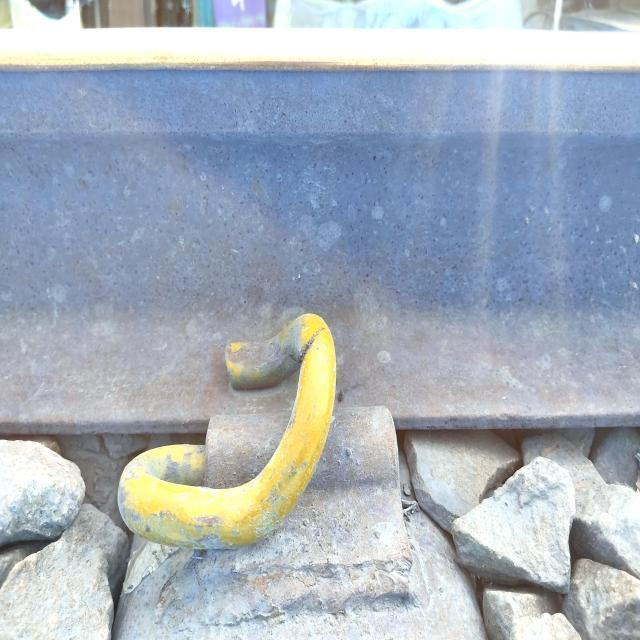Good Fasteners: (114, 314, 429, 640)
